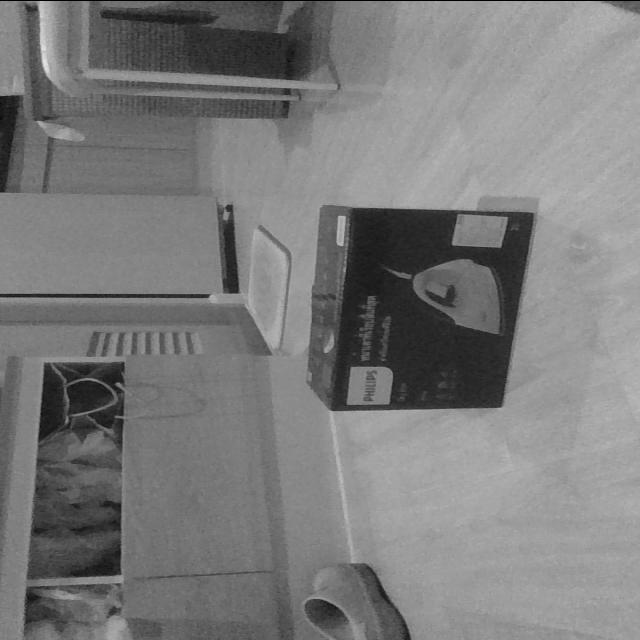IRON: (301, 202, 539, 413)
